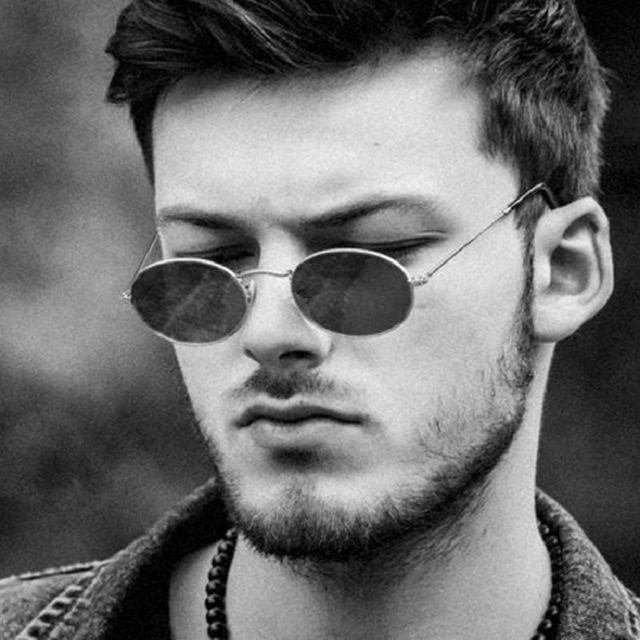sunglasses: (106, 227, 441, 344)
